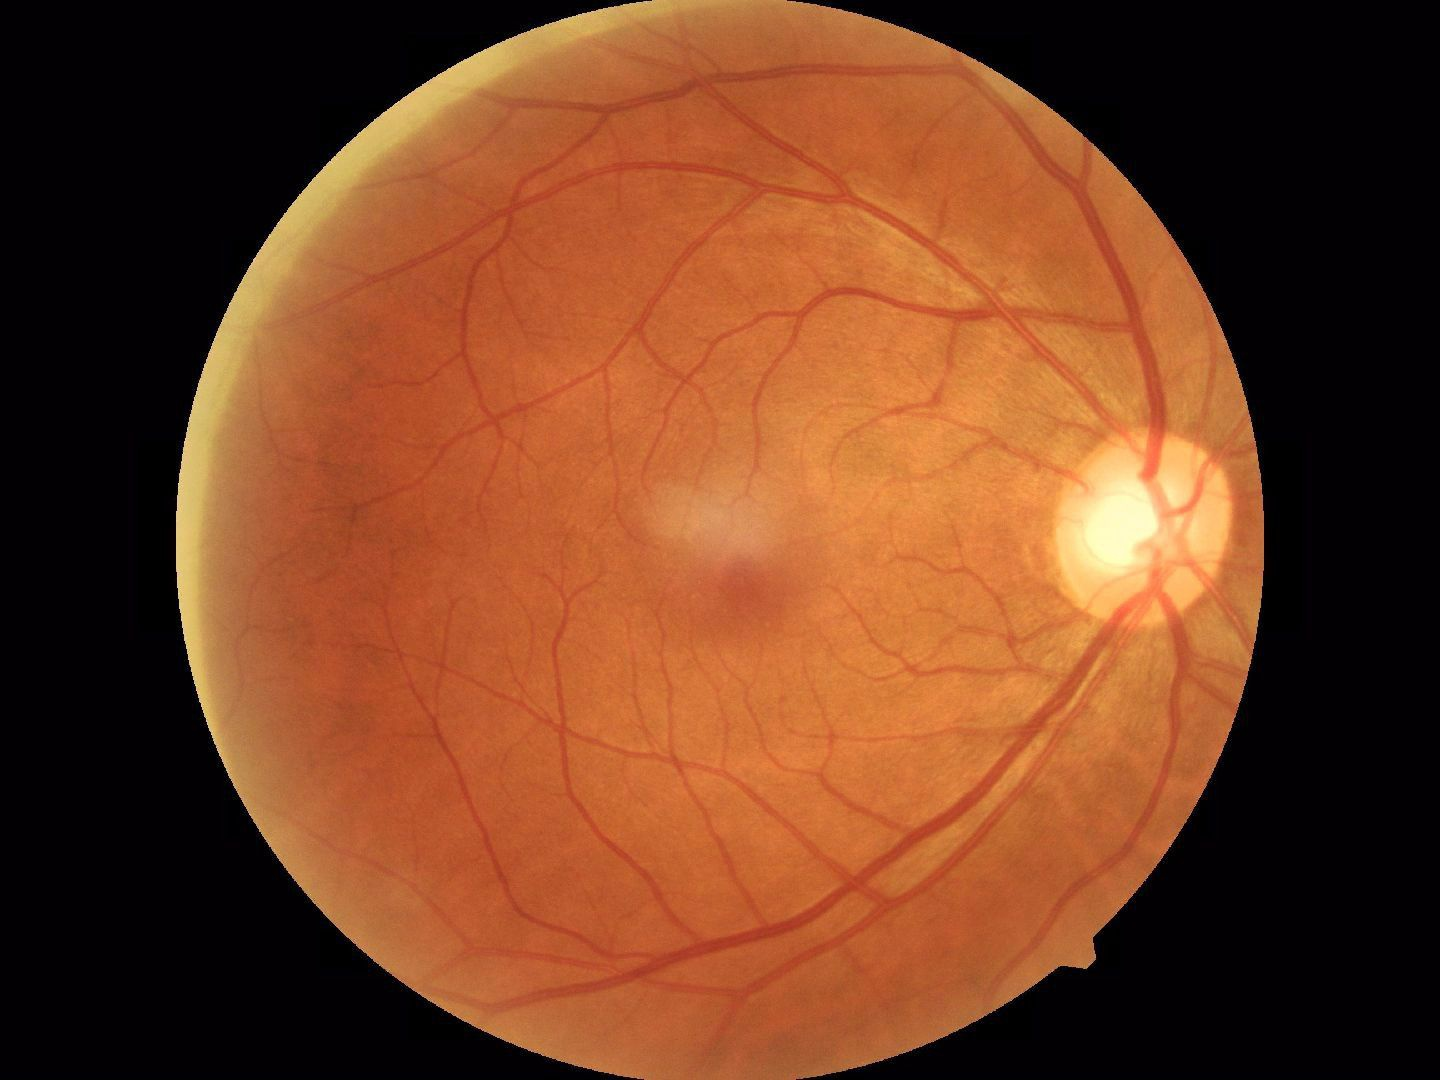Arterioles: (523, 164, 821, 497), (444, 661, 780, 921)
Hemorrhages: (645, 535, 812, 651)
Optic-Disc: (1064, 413, 1240, 653)
Venules: (873, 748, 998, 938)
